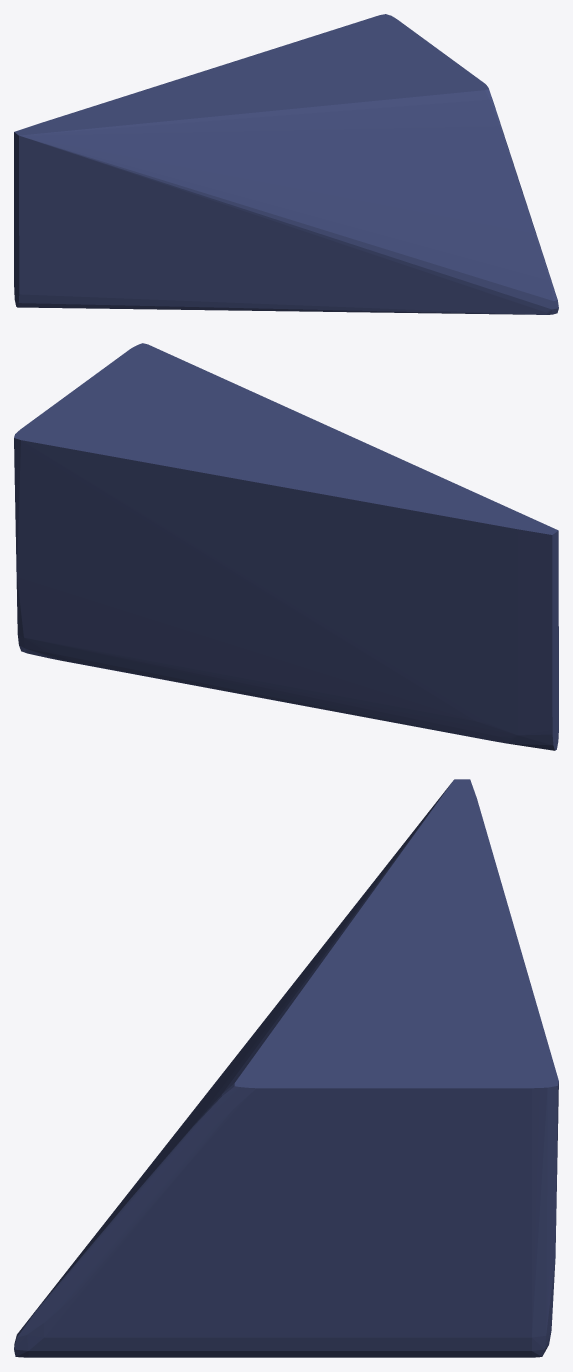
File: right-elbow-0_part_16.obj
3 views of the same model, one above another, from view 1: azimuth 30°, elevation 25°; view 2: azimuth 150°, elevation 25°; view 3: azimuth 270°, elevation 25° (orthographic). The views are drawn at different scales.
Size of the model in its own units: 0.0423 by 0.0175 by 0.0315.
